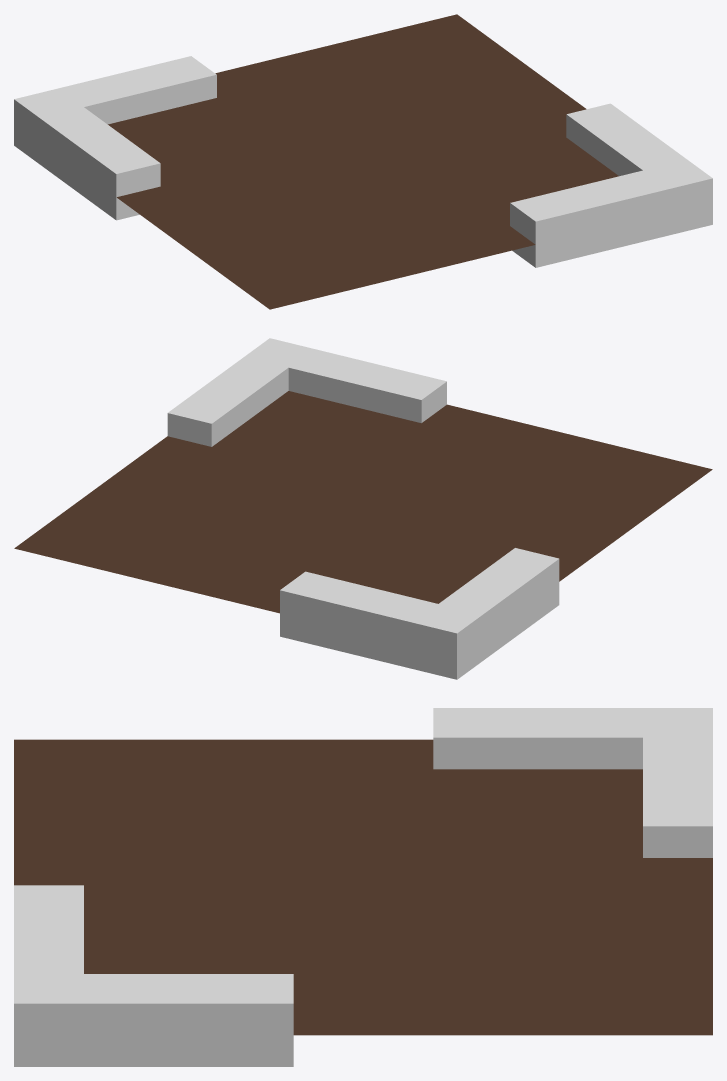
Rendered from level01.glb.
The picture shows the model from 3 angles, top to bottom: view 1: azimuth 30°, elevation 25°; view 2: azimuth 150°, elevation 25°; view 3: azimuth 270°, elevation 25°; orthographic projection. The views are drawn at different scales.
Visible parts, largest first — view 1: Plane -col, Cube.001 -col, Cube -col; view 2: Plane -col, Cube -col, Cube.001 -col; view 3: Plane -col, Cube.001 -col, Cube -col.
Boxes of the visible parts, x1,y1,x2,y2 form: Plane -col: (108, 14, 618, 309); Cube.001 -col: (510, 103, 712, 267); Cube -col: (14, 56, 216, 220); Plane -col: (14, 391, 712, 613); Cube -col: (280, 548, 559, 679); Cube.001 -col: (167, 338, 446, 446); Plane -col: (14, 739, 712, 1035); Cube.001 -col: (14, 885, 293, 1066); Cube -col: (433, 708, 712, 857).
Size of what is drawn, in the model's own units: 100 by 10 by 100.
